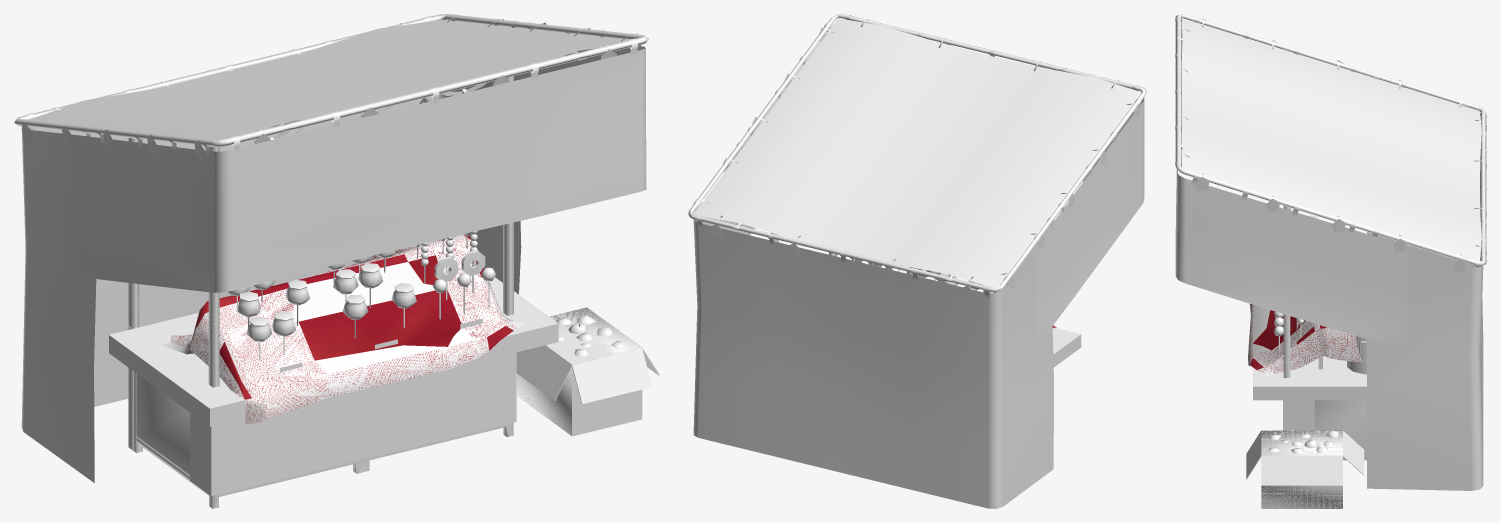
Rendered from objects_un_dlc1_slstall03.gltf.
The picture shows the model from 3 angles, left to right: view 1: azimuth 30°, elevation 25°; view 2: azimuth 150°, elevation 25°; view 3: azimuth 270°, elevation 25°; orthographic projection. The views are drawn at different scales.
Parts seen in each view (by area): view 1: nomerge_shopcurtain_shape:dlc1_slstall_curtain01_01, before_shadow_model_shape:objects_un_dlc1_slstall03_shadow, before_board_candy_shape:objects_un_dlc1_slstall03_01, nomerge_stallbase_shape:objects_un_dlc1_slstall_base01_01, before_cloth_shape:objects_un_dlc1_slstall03_03, after_board_candy_shape:objects_un_dlc1_slstall03_01, after_apple_incardboard_shape:objects_un_dlc1_slstall03_02, before_apple_incardboard_shape:objects_un_dlc1_slstall03_02, after_shadow_model_shape:objects_un_dlc1_slstall03_shadow; view 2: nomerge_shopcurtain_shape:dlc1_slstall_curtain01_01, nomerge_stallbase_shape:objects_un_dlc1_slstall_base01_01, before_shadow_model_shape:objects_un_dlc1_slstall03_shadow; view 3: nomerge_shopcurtain_shape:dlc1_slstall_curtain01_01, before_shadow_model_shape:objects_un_dlc1_slstall03_shadow, nomerge_stallbase_shape:objects_un_dlc1_slstall_base01_01, after_shadow_model_shape:objects_un_dlc1_slstall03_shadow, before_apple_incardboard_shape:objects_un_dlc1_slstall03_02, before_cloth_shape:objects_un_dlc1_slstall03_03, after_apple_incardboard_shape:objects_un_dlc1_slstall03_02, before_board_candy_shape:objects_un_dlc1_slstall03_01, after_board_candy_shape:objects_un_dlc1_slstall03_01.
Part boxes in pixels (bbox=[...]): nomerge_shopcurtain_shape:dlc1_slstall_curtain01_01: bbox=[21, 14, 646, 482]; before_shadow_model_shape:objects_un_dlc1_slstall03_shadow: bbox=[17, 14, 644, 508]; before_board_candy_shape:objects_un_dlc1_slstall03_01: bbox=[190, 352, 516, 496]; nomerge_stallbase_shape:objects_un_dlc1_slstall_base01_01: bbox=[14, 14, 648, 508]; before_cloth_shape:objects_un_dlc1_slstall03_03: bbox=[171, 235, 515, 423]; after_board_candy_shape:objects_un_dlc1_slstall03_01: bbox=[228, 231, 496, 372]; after_apple_incardboard_shape:objects_un_dlc1_slstall03_02: bbox=[529, 310, 659, 432]; before_apple_incardboard_shape:objects_un_dlc1_slstall03_02: bbox=[546, 310, 642, 436]; after_shadow_model_shape:objects_un_dlc1_slstall03_shadow: bbox=[516, 307, 659, 403]; nomerge_shopcurtain_shape:dlc1_slstall_curtain01_01: bbox=[693, 14, 1144, 508]; nomerge_stallbase_shape:objects_un_dlc1_slstall_base01_01: bbox=[688, 14, 1146, 367]; before_shadow_model_shape:objects_un_dlc1_slstall03_shadow: bbox=[690, 14, 1143, 329]; nomerge_shopcurtain_shape:dlc1_slstall_curtain01_01: bbox=[1175, 16, 1486, 490]; before_shadow_model_shape:objects_un_dlc1_slstall03_shadow: bbox=[1179, 14, 1483, 508]; nomerge_stallbase_shape:objects_un_dlc1_slstall_base01_01: bbox=[1175, 14, 1486, 400]; after_shadow_model_shape:objects_un_dlc1_slstall03_shadow: bbox=[1261, 430, 1364, 485]; before_apple_incardboard_shape:objects_un_dlc1_slstall03_02: bbox=[1261, 430, 1342, 508]; before_cloth_shape:objects_un_dlc1_slstall03_03: bbox=[1248, 304, 1361, 373]; after_apple_incardboard_shape:objects_un_dlc1_slstall03_02: bbox=[1246, 430, 1363, 508]; before_board_candy_shape:objects_un_dlc1_slstall03_01: bbox=[1283, 356, 1322, 430]; after_board_candy_shape:objects_un_dlc1_slstall03_01: bbox=[1274, 215, 1366, 374].
Size of what is drawn, in the model's own units: 3.15 by 2.62 by 2.28.
6 materials, 1 textured.
